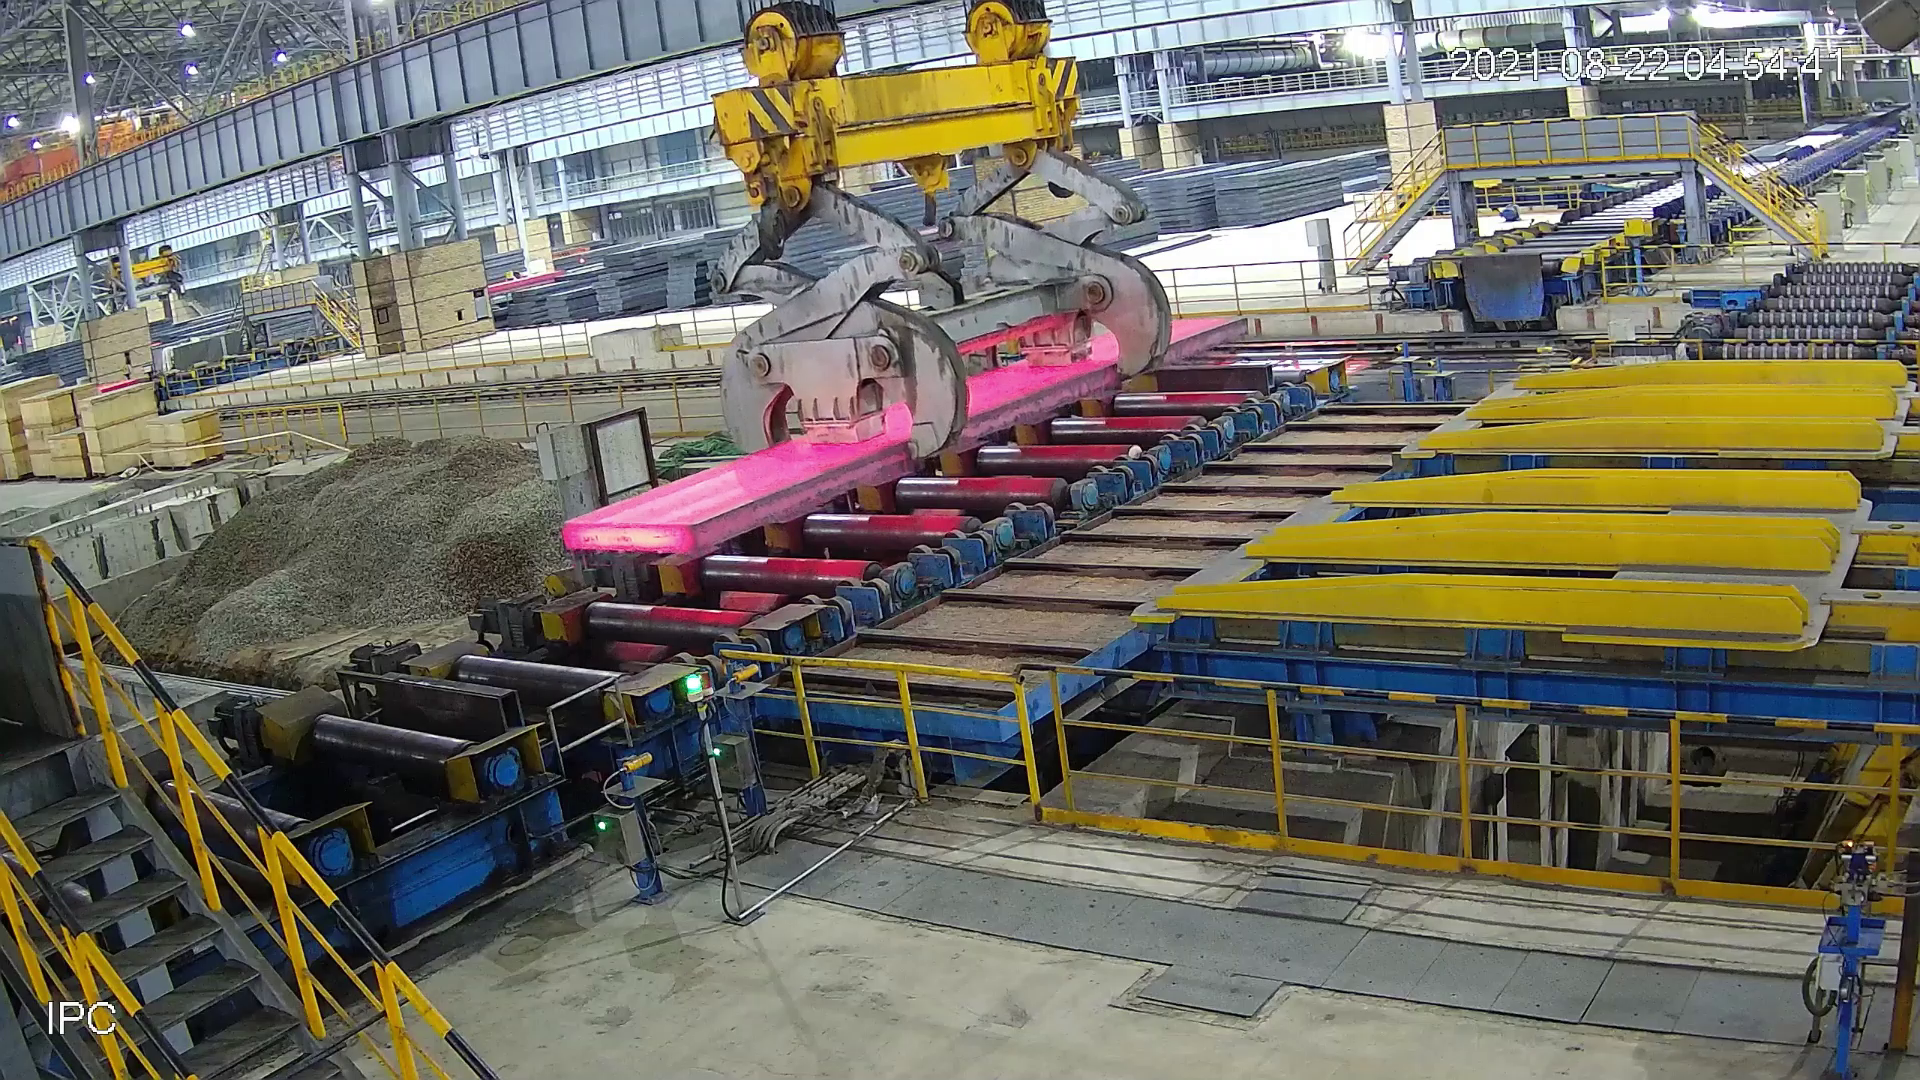craneandslab: (553, 1, 1255, 564)
